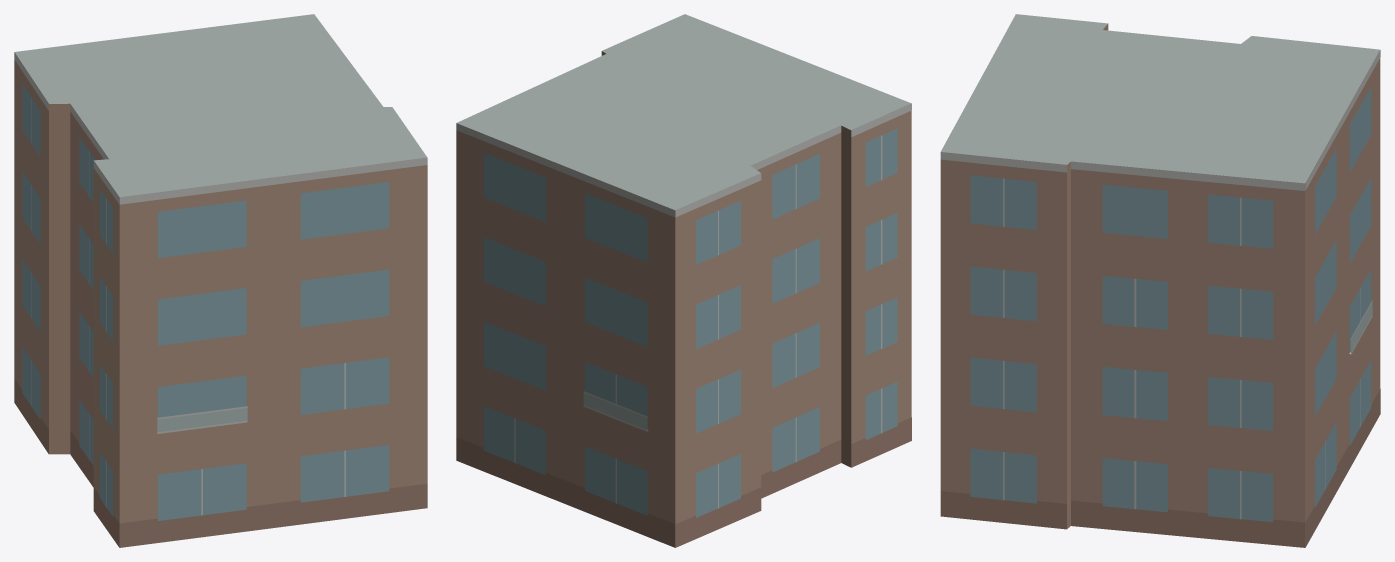
File: survey-upis-32990627.glb
3 renders of one model, left to right at view 1: azimuth 30°, elevation 25°; view 2: azimuth 150°, elevation 25°; view 3: azimuth 270°, elevation 25°, orthographic. The views are drawn at different scales.
Visible parts, largest first — view 1: survey-upis-32990627.tmp; view 2: survey-upis-32990627.tmp; view 3: survey-upis-32990627.tmp.
Boxes of the visible parts, box(x1,y1,x2,y2) form: survey-upis-32990627.tmp: box(14, 14, 427, 547); survey-upis-32990627.tmp: box(456, 14, 911, 547); survey-upis-32990627.tmp: box(940, 14, 1380, 547).
Bounding box in the file's own units: 11.57 × 11.6 × 12.7.
